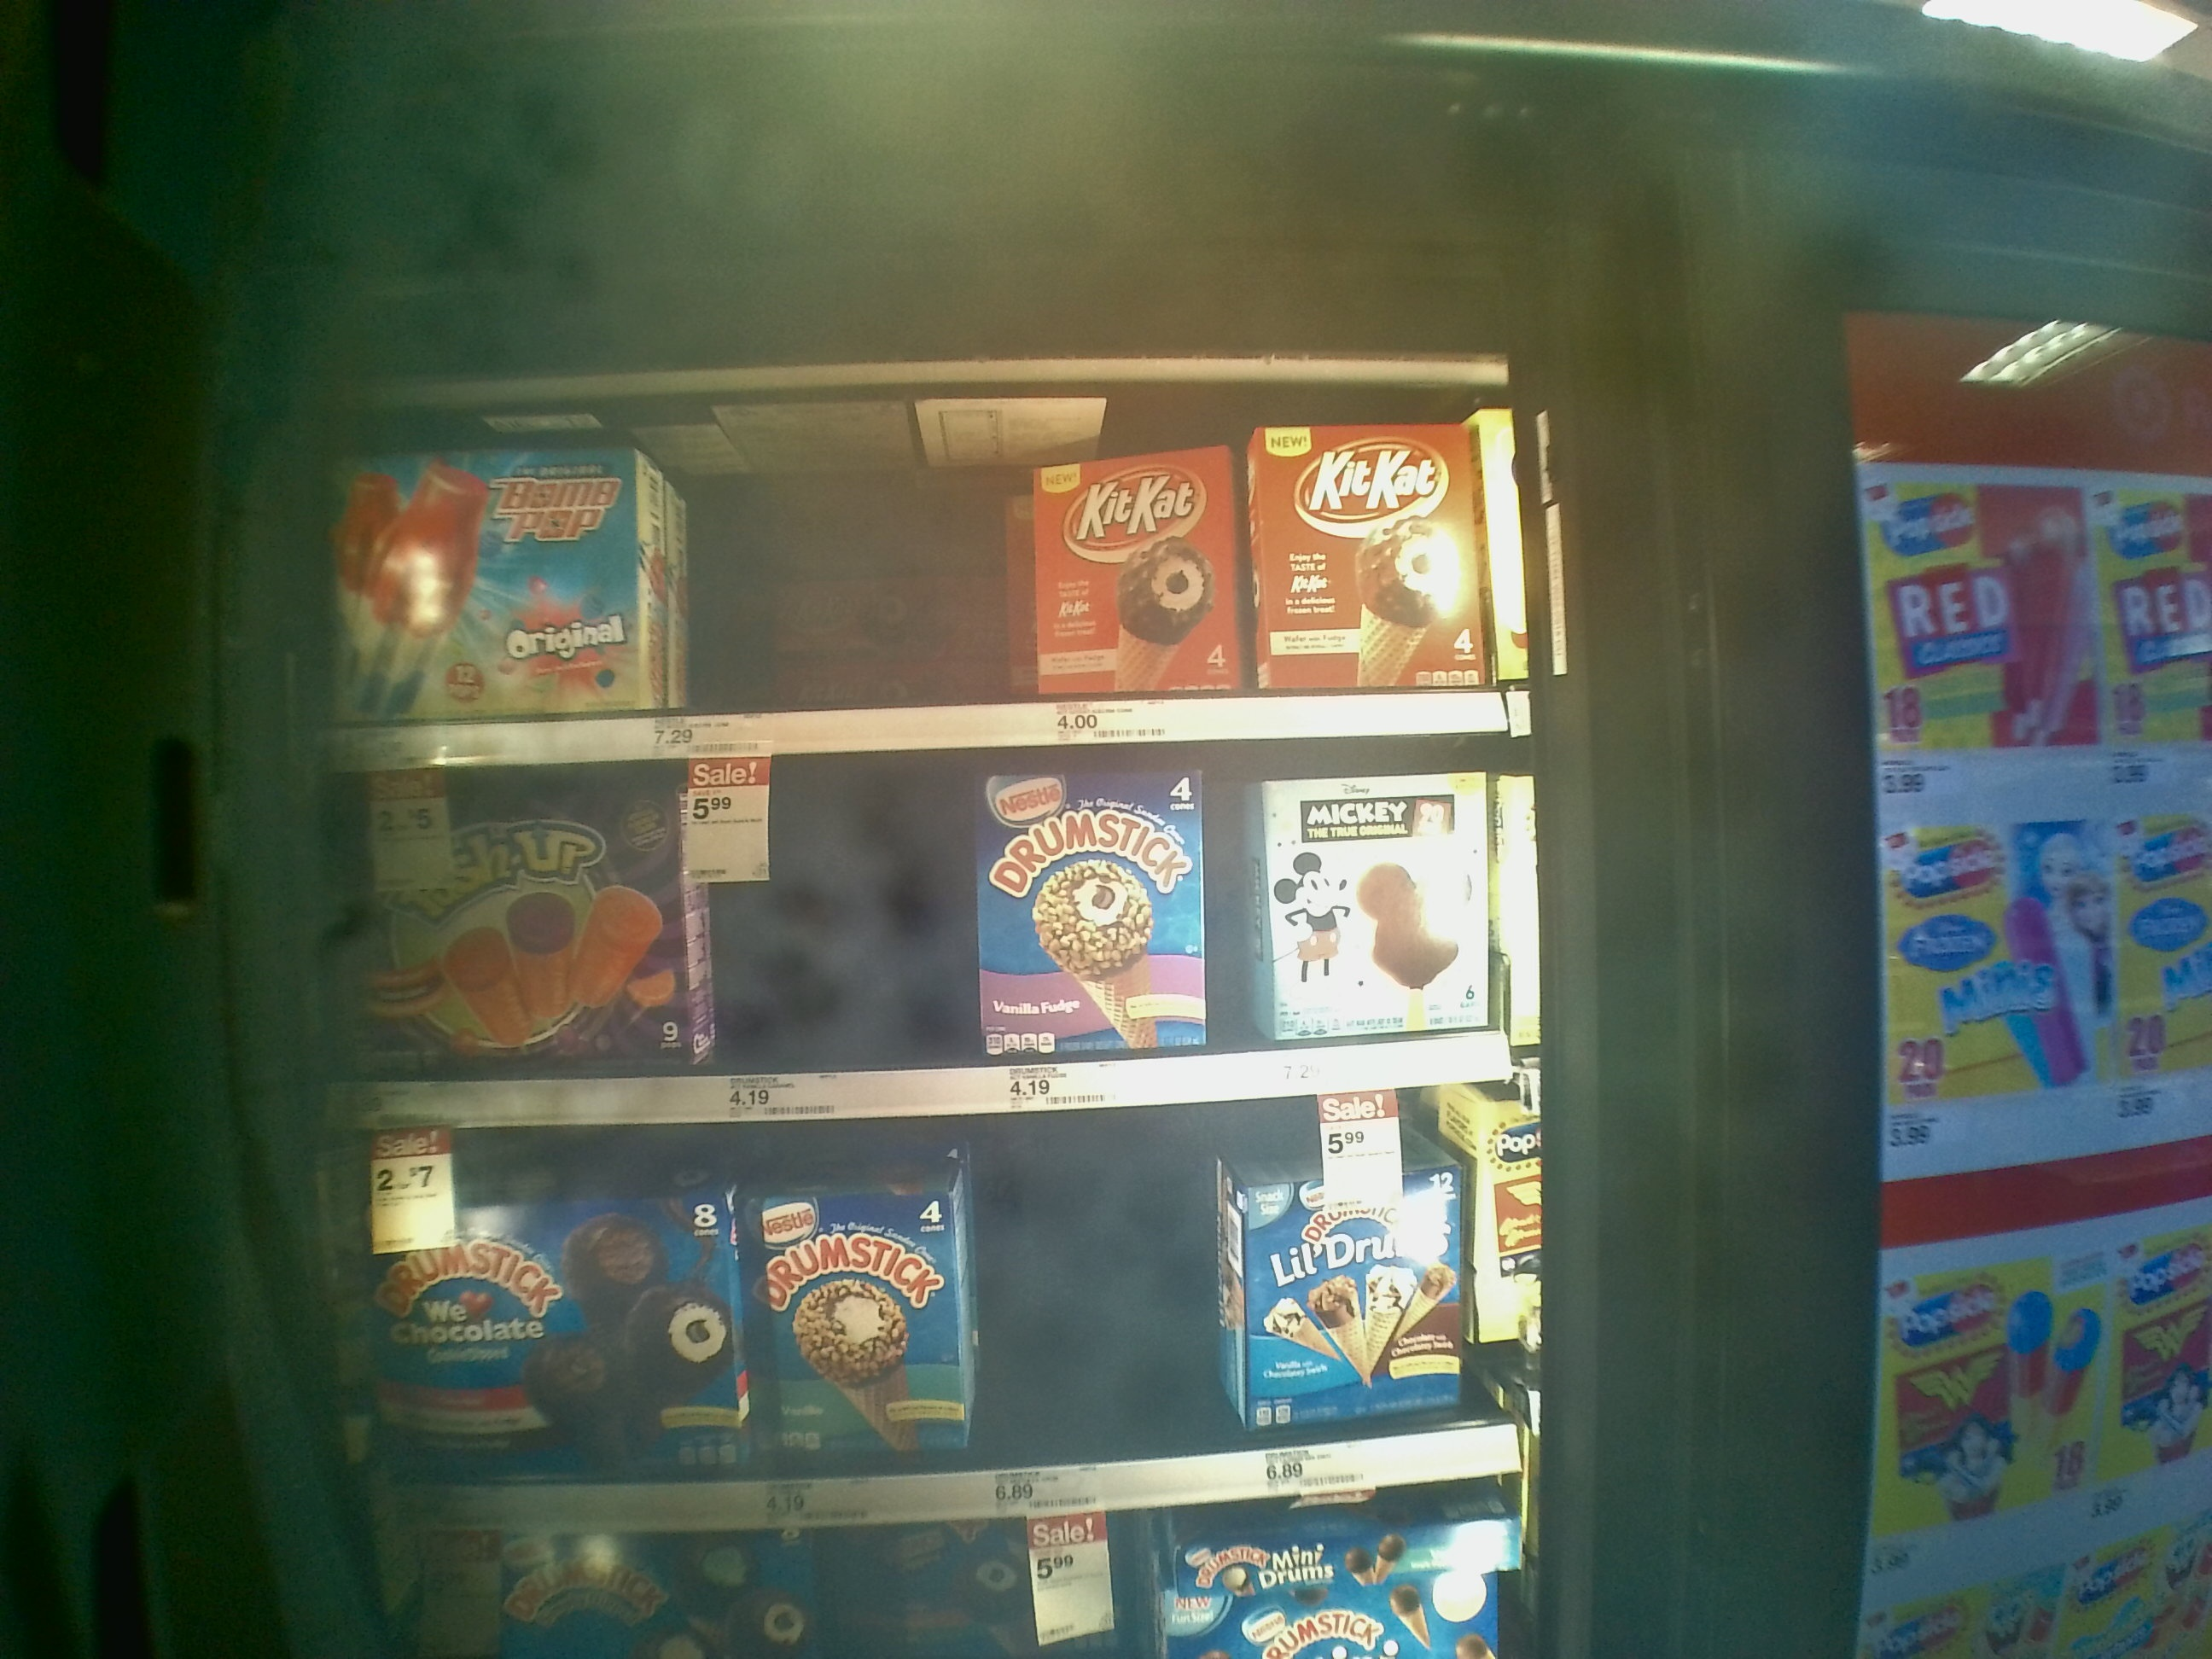ice-cream-shelf: (361, 1103, 1543, 1527), (354, 732, 1529, 1122), (336, 392, 1533, 727)
